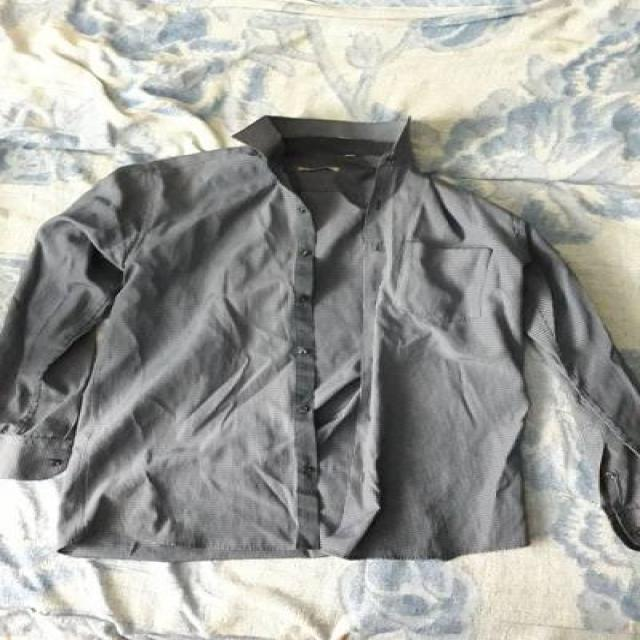Clothes -Biodegradable-: (0, 121, 640, 563)
